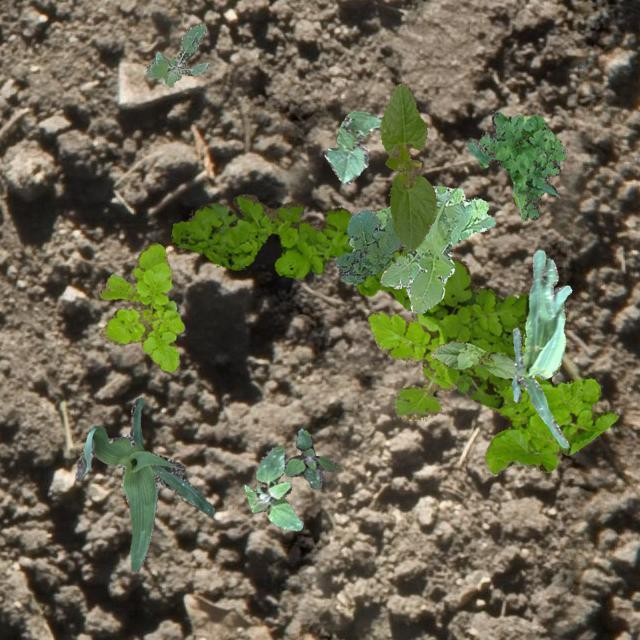crop: (74, 397, 214, 570), (510, 248, 570, 446), (380, 82, 436, 250), (323, 110, 381, 184), (430, 340, 514, 378)
weed: (170, 192, 528, 408), (367, 306, 618, 474), (346, 184, 494, 316), (98, 242, 184, 371), (466, 110, 566, 220), (334, 208, 402, 284), (244, 444, 302, 530), (146, 24, 210, 86), (282, 428, 338, 488)
